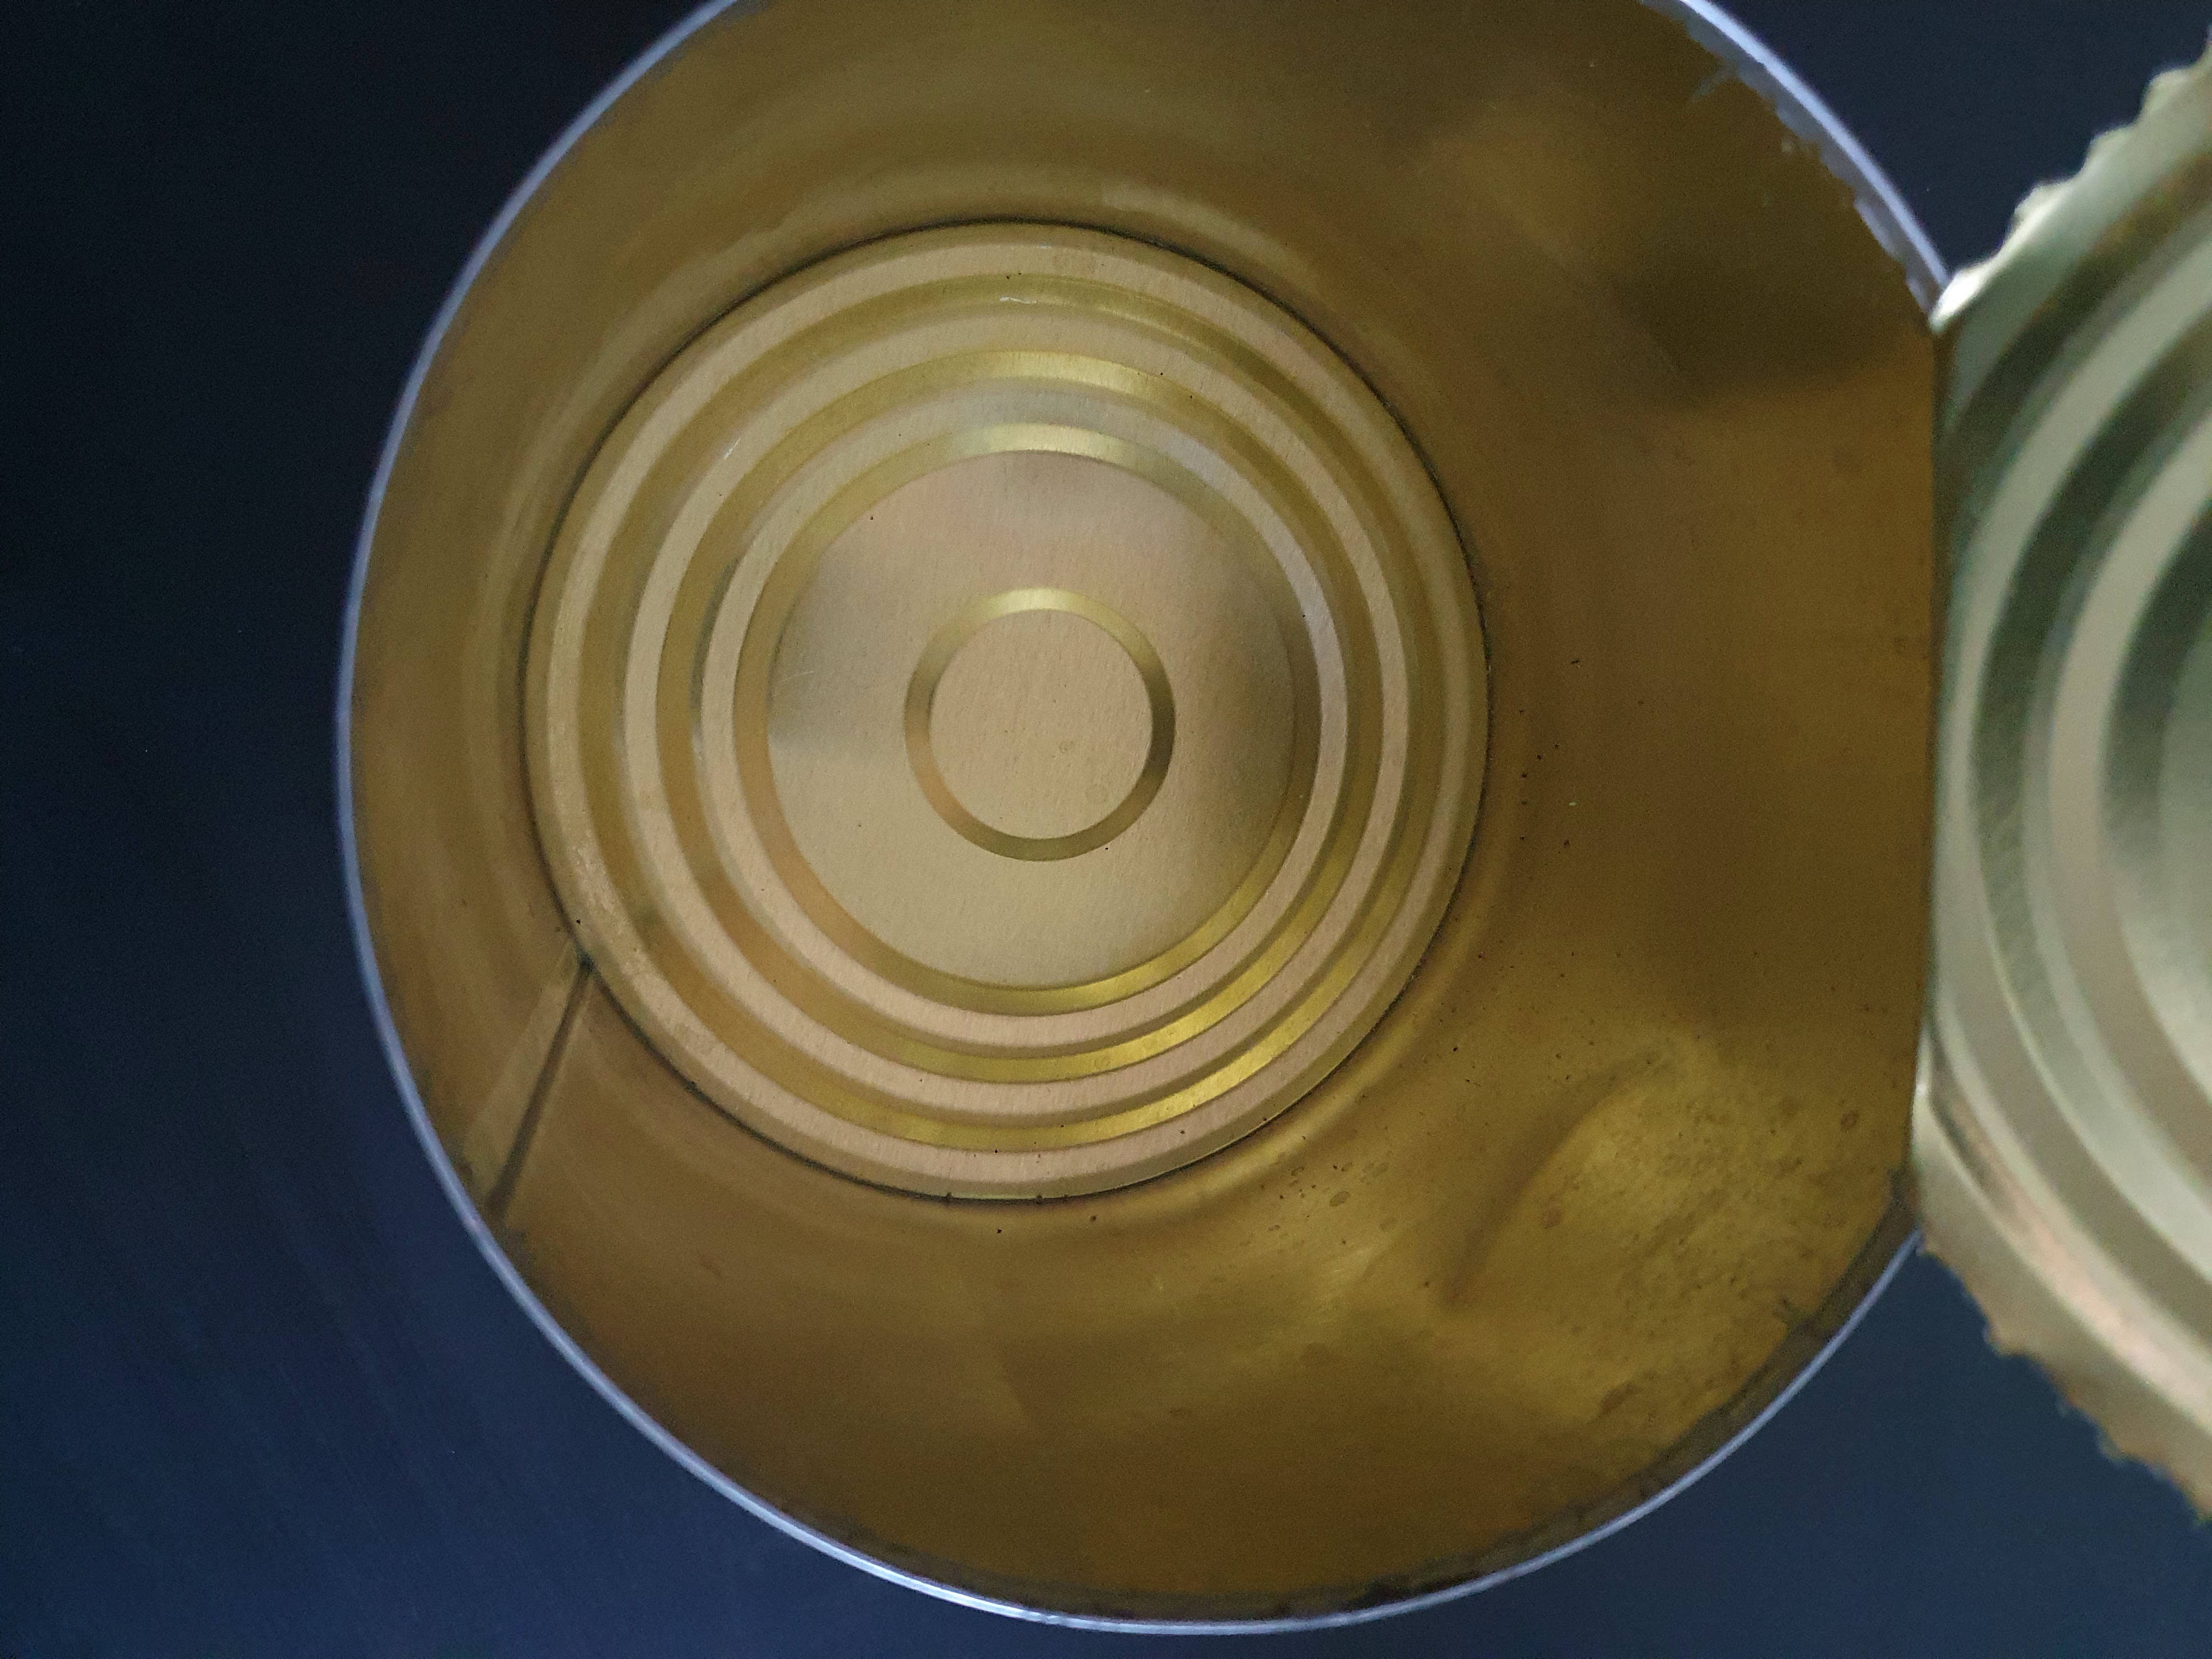metal: (324, 5, 2212, 1659)
